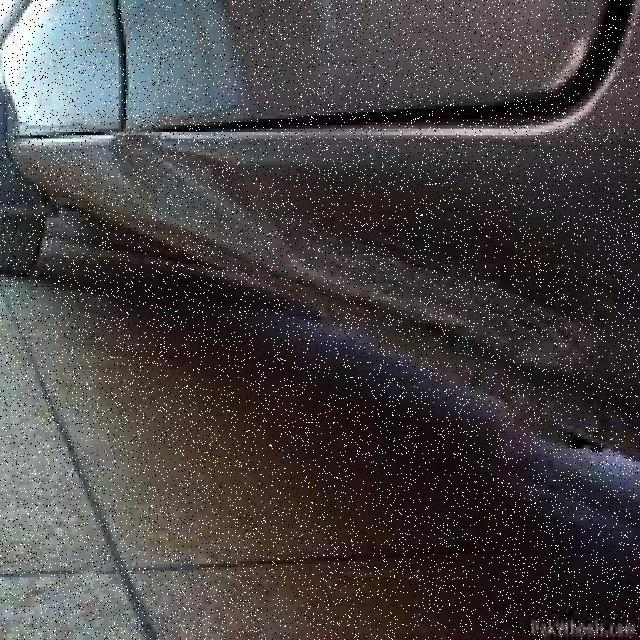RunningBoard-Dent: (331, 228, 638, 420), (89, 139, 396, 288)
